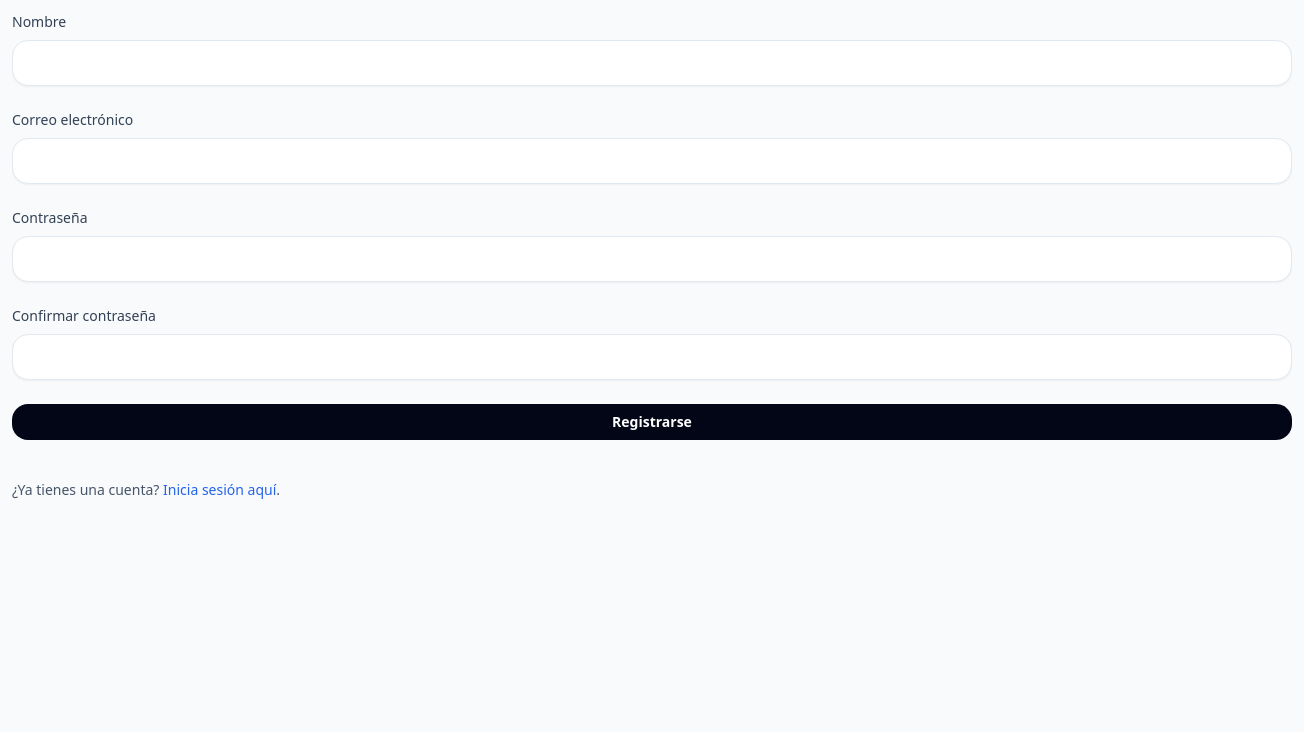
Test case: RegisterForm › muestra el error de coincidencia de contraseña cuando las contraseñas no coinciden
Type "Test User" into the field labelled "Nombre" at (652, 63), box [12,40,1292,86]
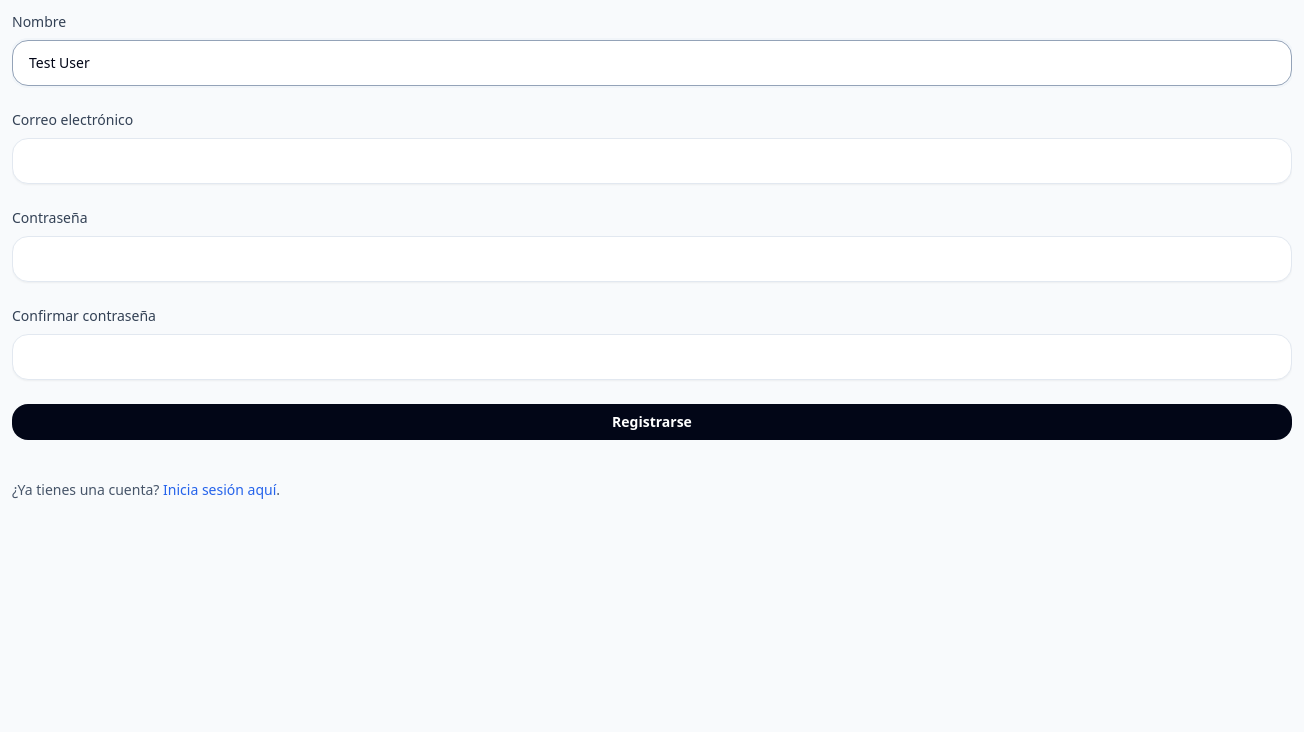
Type "test@example.com" into the field labelled "Correo electrónico" at (652, 161), box [12,138,1292,184]
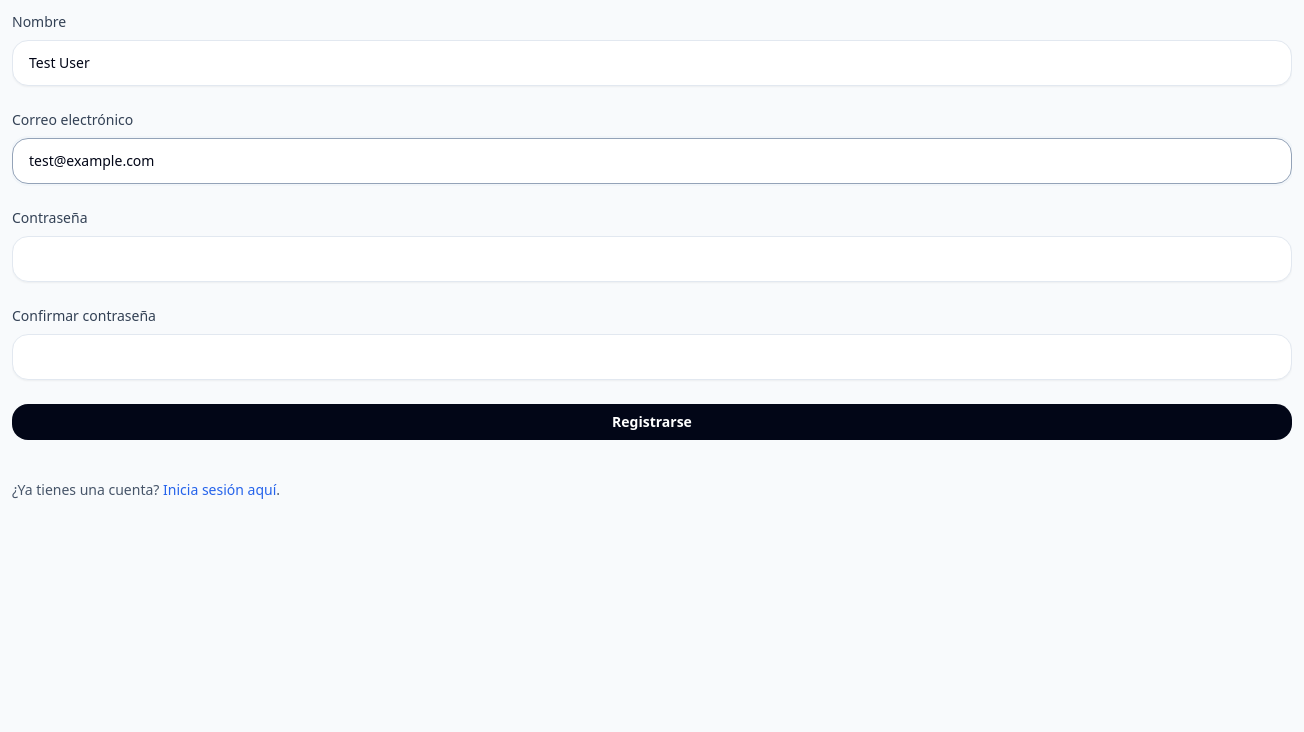
Type "secret123" into the password field labelled "Contraseña" at (652, 259), box [12,236,1292,282]
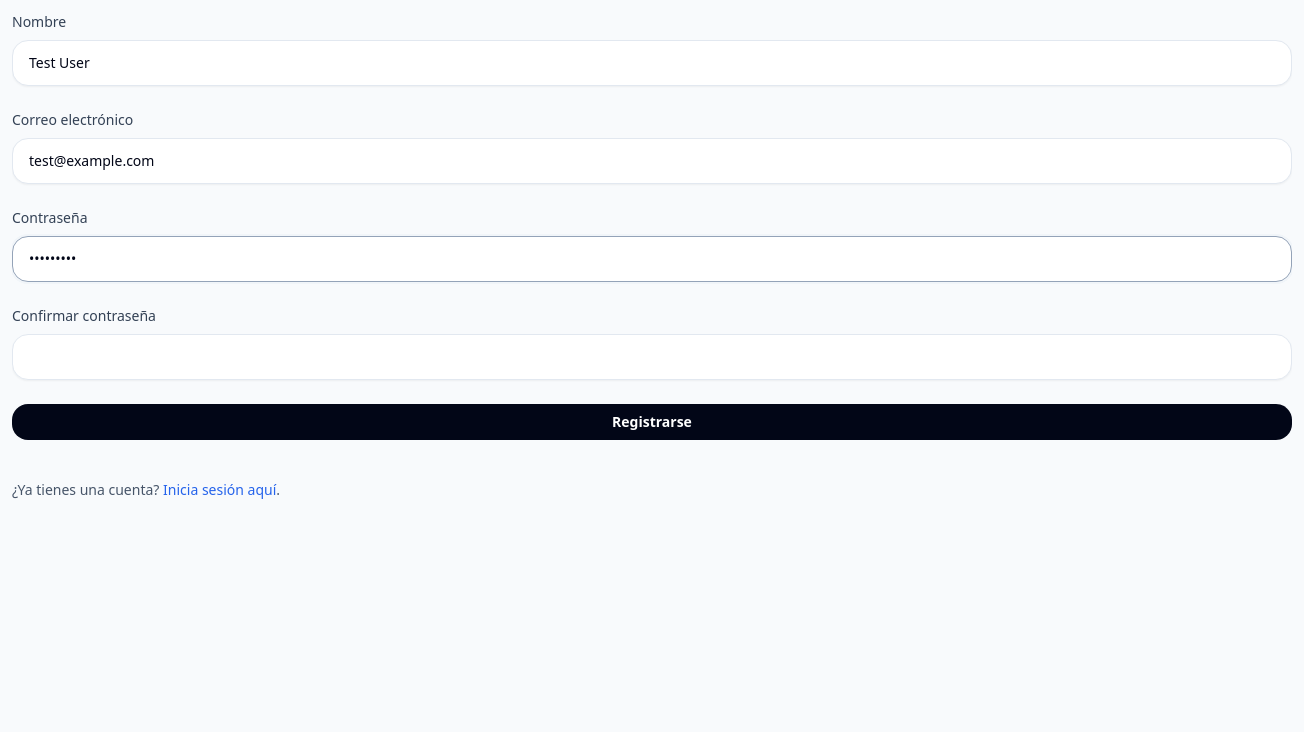
Type "different123" into the password field labelled "Confirmar contraseña" at (652, 357), box [12,334,1292,380]
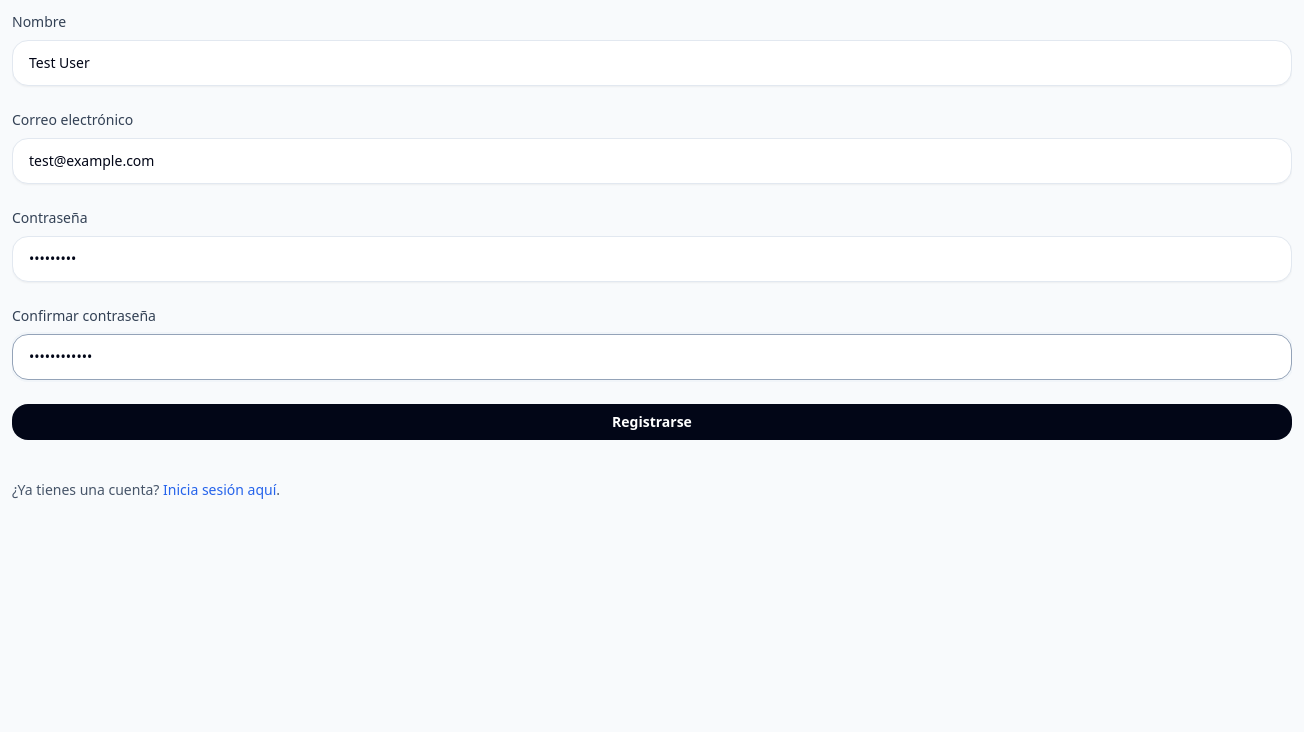
Click the button "Registrarse" at (652, 422), box [12,404,1292,440]
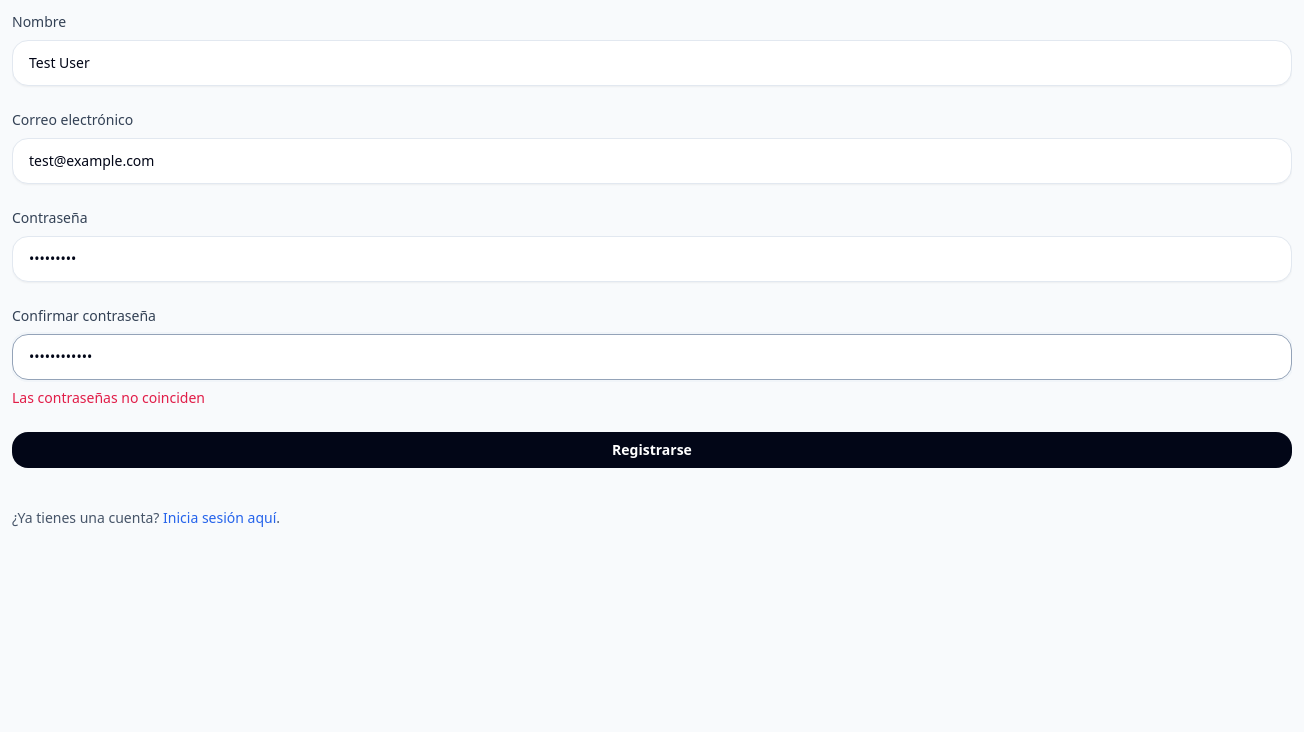
Now the text "Las contraseñas no coinciden" is shown, box [12,388,205,407]
